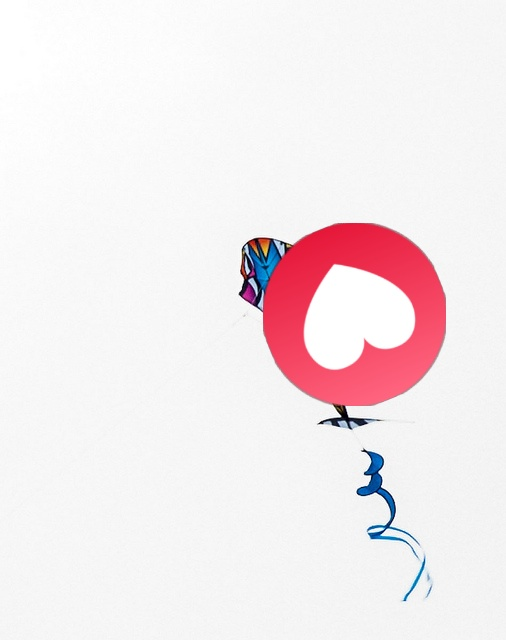love: (263, 223, 446, 406)
